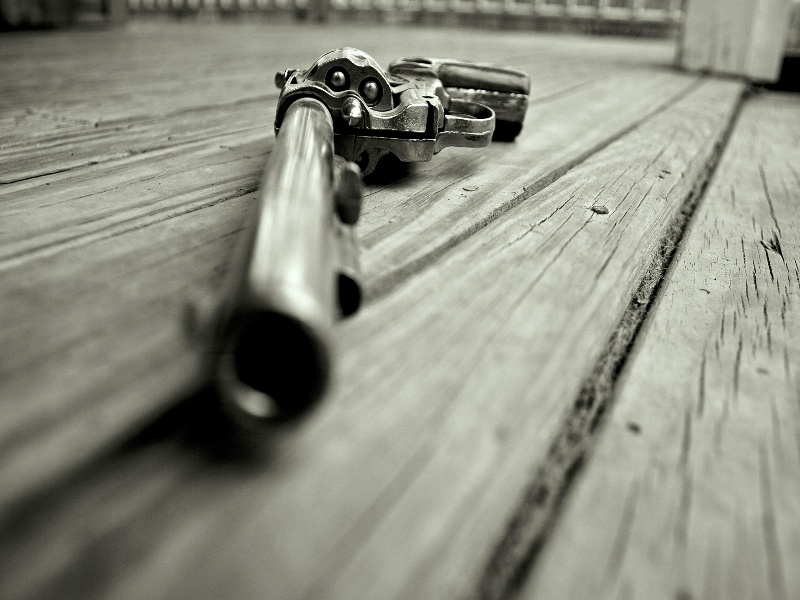gun: (189, 34, 539, 427)
